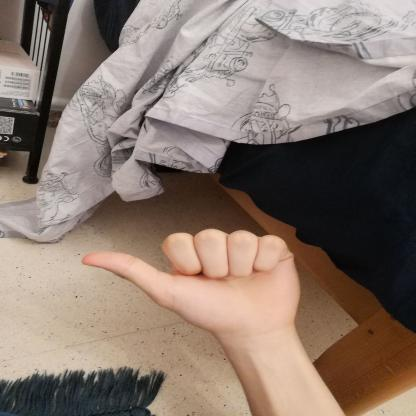DAD: (69, 219, 316, 342)
